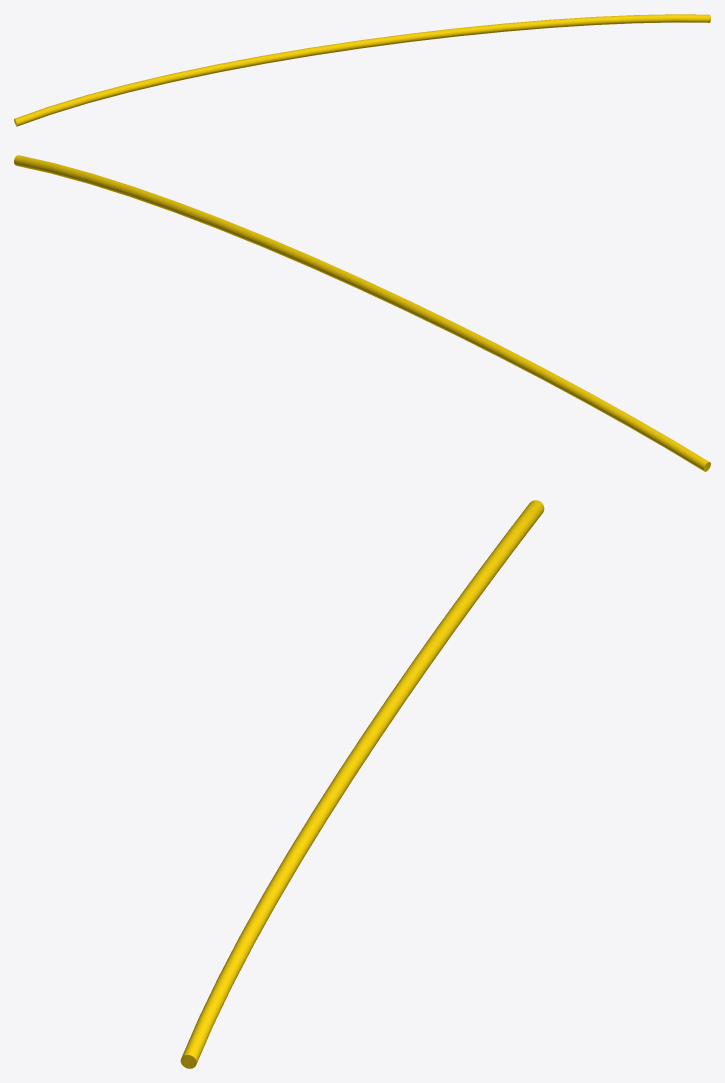
The model's file is Event_421115418_track_144.fbx.
3 views of the same model, one above another, from view 1: azimuth 30°, elevation 25°; view 2: azimuth 150°, elevation 25°; view 3: azimuth 270°, elevation 25° (orthographic). The views are drawn at different scales.
Visible parts, largest first — view 1: Model; view 2: Model; view 3: Model.
Boxes of the visible parts, x1,y1,x2,y2 form: Model: (14, 14, 710, 126); Model: (14, 155, 710, 471); Model: (180, 500, 544, 1068).
Bounding box in the file's own units: 3.4 × 0.2284 × 0.8792.
